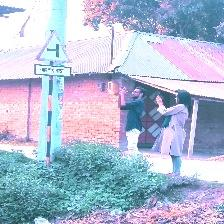Side-road-left: (34, 36, 71, 77)
